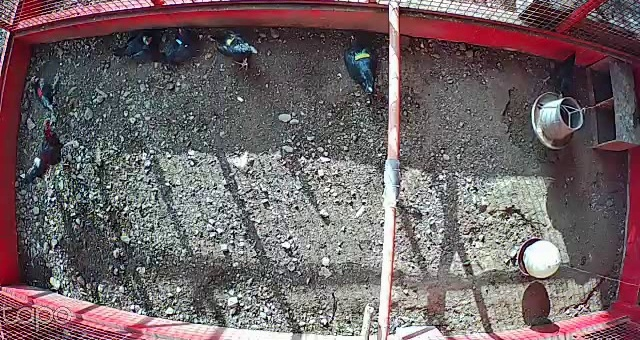Chicken: (338, 25, 384, 107), (23, 63, 71, 128), (202, 26, 258, 77), (533, 47, 584, 103), (154, 23, 207, 71), (115, 27, 163, 59)
Rooster: (22, 114, 82, 189)
Saddle_Color_Blue: (173, 34, 189, 48)
Saddle_Color_Red: (36, 88, 43, 98)
Saddle_Color_Yellow: (222, 32, 236, 53)
Saddle_Color_YellowGreen: (352, 50, 374, 62)
